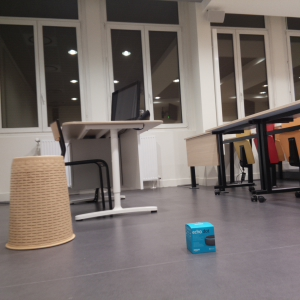medium: (7, 154, 73, 249)
small: (185, 221, 217, 255)
